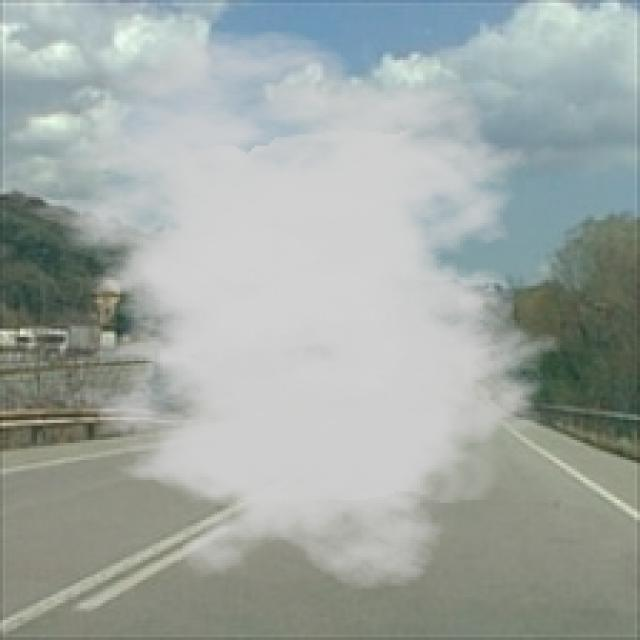Smoke: (2, 29, 572, 592)
